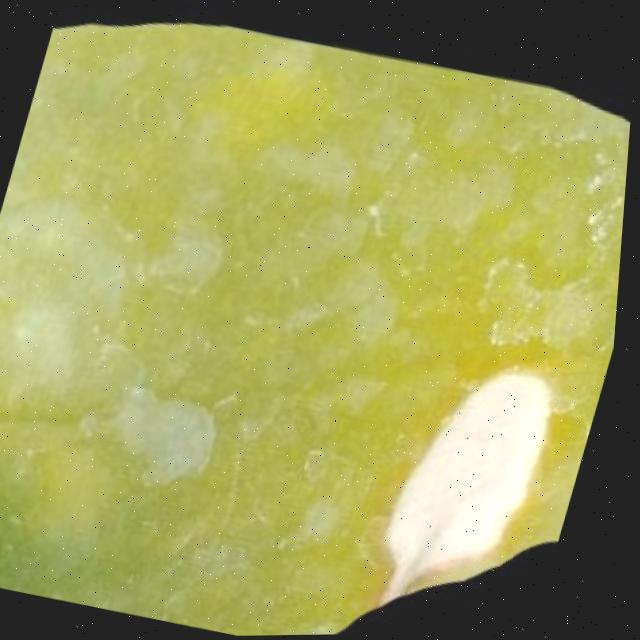mite: (328, 494, 568, 636), (9, 430, 142, 567), (472, 250, 621, 366), (130, 206, 239, 306)
